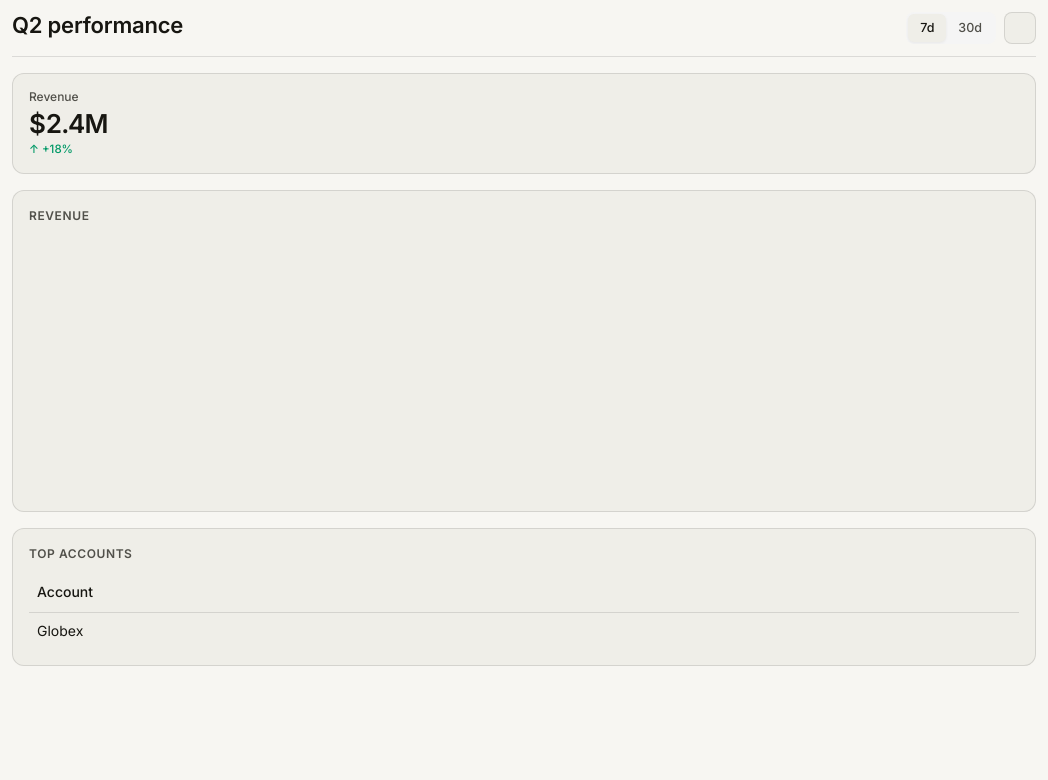
exec-dashboard: KPI mode (existing specs) › renders prebuilt KPIs, byKey overrides and the table footer as before
Expected: the heading "Q2 performance" is shown, [12,12,183,38]
Expected: the text "$2.4M" is shown, [29,110,108,137]
Click the tab "30d": [970, 28] box [946,14,994,42]
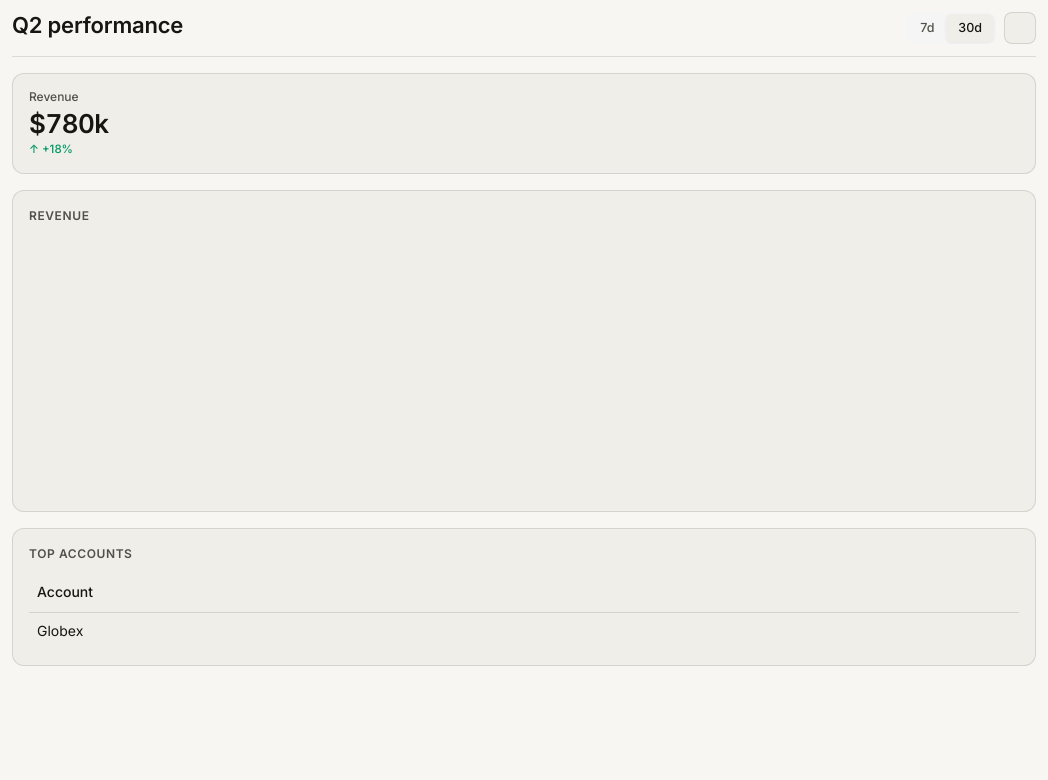
Expected: the text "$780k" is shown, [29,110,109,137]
